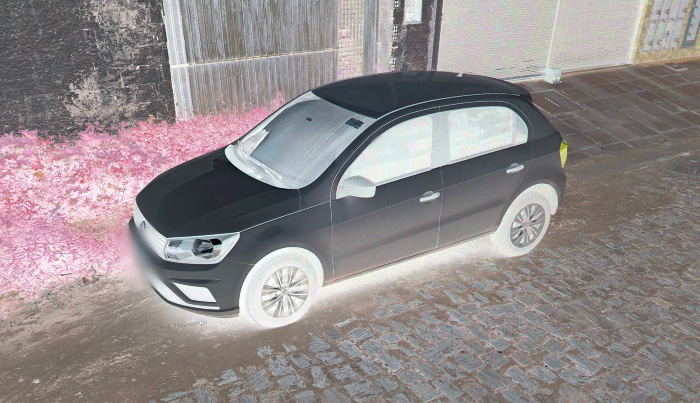car: (124, 65, 570, 331)
